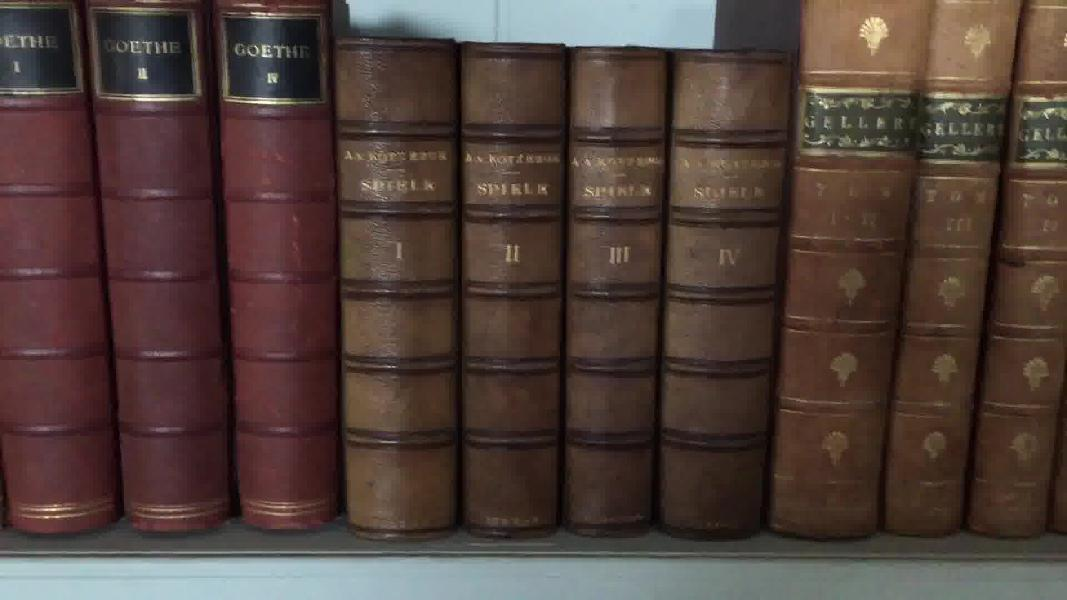Aa6-11_13: (2, 7, 342, 532)
Aa6-14_17: (328, 32, 788, 548)
